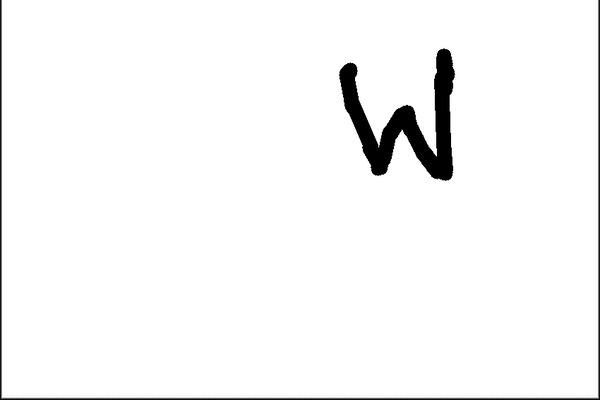w: (325, 36, 483, 199)
